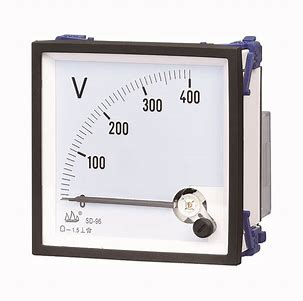pointer: (41, 52, 230, 255)
